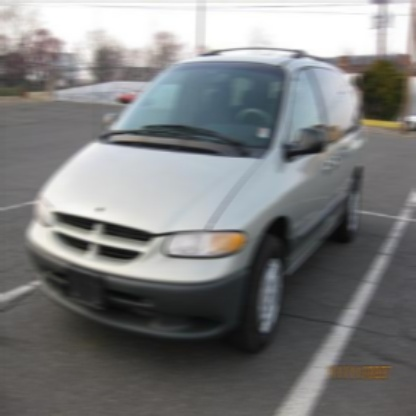Vehicle: (25, 43, 368, 358)
